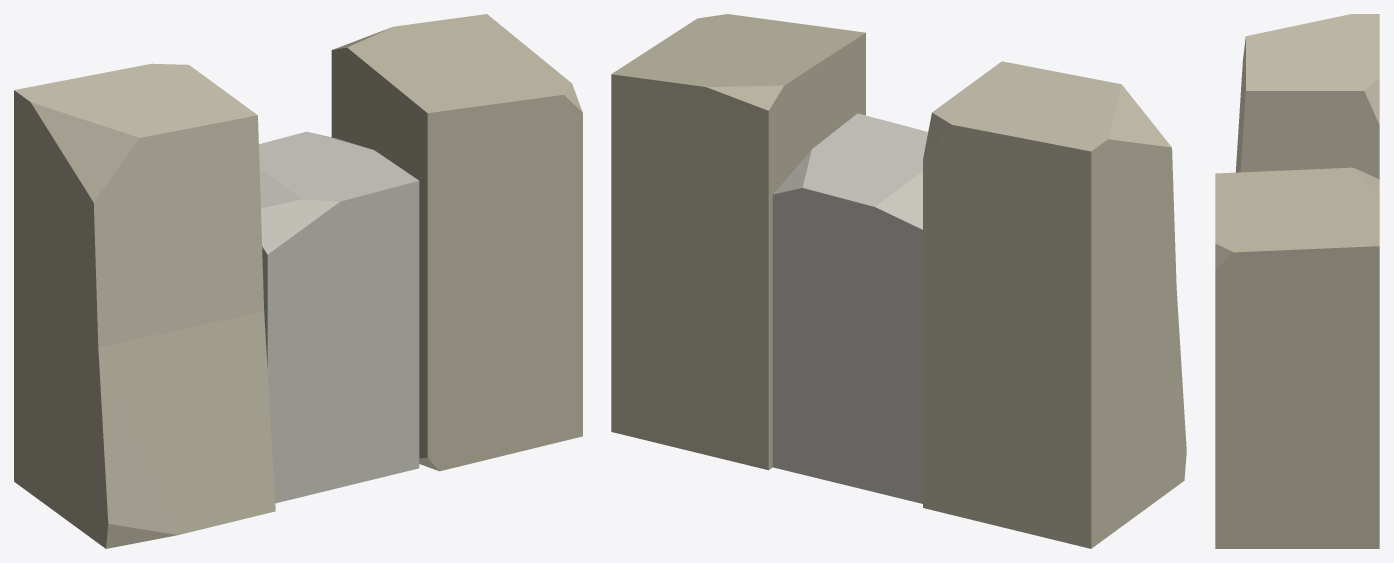
File: Rocks_Square_m_03.fbx
3 views of the same model, side by side, from view 1: azimuth 30°, elevation 25°; view 2: azimuth 150°, elevation 25°; view 3: azimuth 270°, elevation 25° (orthographic). The views are drawn at different scales.
Parts seen in each view (by area): view 1: Rocks_Square_m_03; view 2: Rocks_Square_m_03; view 3: Rocks_Square_m_03.
Boxes of the visible parts, x1=… form: Rocks_Square_m_03: x1=14, y1=14, x2=582, y2=548; Rocks_Square_m_03: x1=611, y1=14, x2=1186, y2=548; Rocks_Square_m_03: x1=1215, y1=14, x2=1379, y2=548.
Size of the model in its own units: 123 by 97.45 by 43.2.
